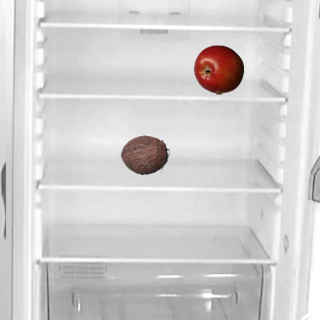Apple Braeburn: (193, 44, 243, 94)
Cocos: (119, 129, 169, 179)
